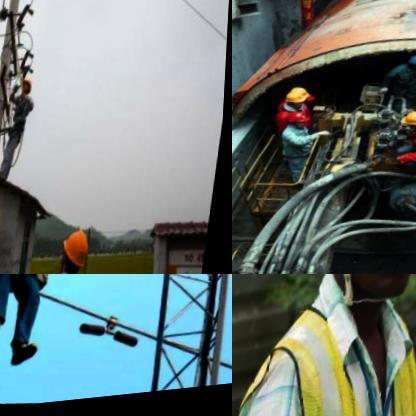helmet: (294, 274, 416, 333), (58, 229, 97, 274), (280, 109, 321, 137), (283, 85, 314, 111), (397, 109, 416, 141), (22, 80, 38, 103), (404, 55, 416, 79)
